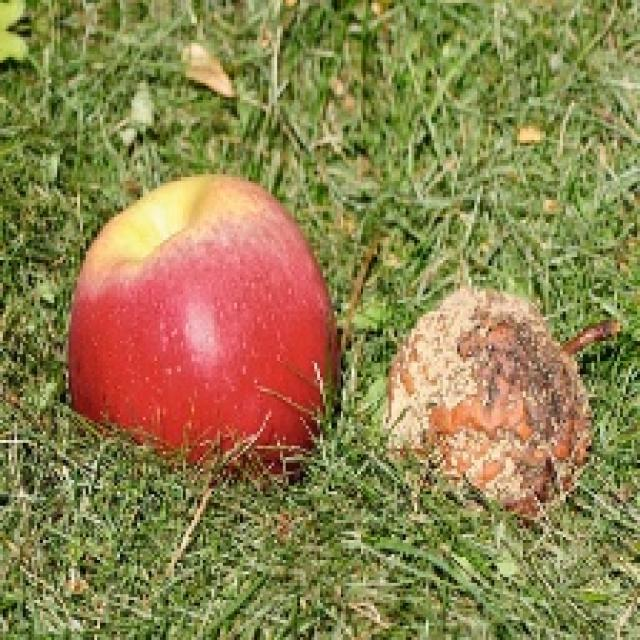rotten_apple: (401, 287, 586, 511)
